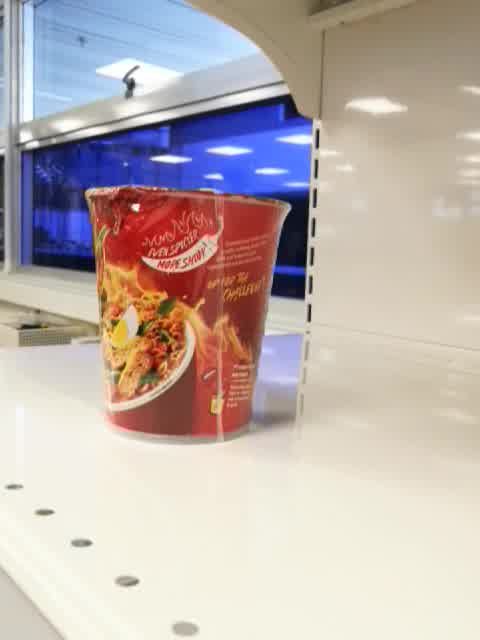maggi: (84, 185, 290, 446)
